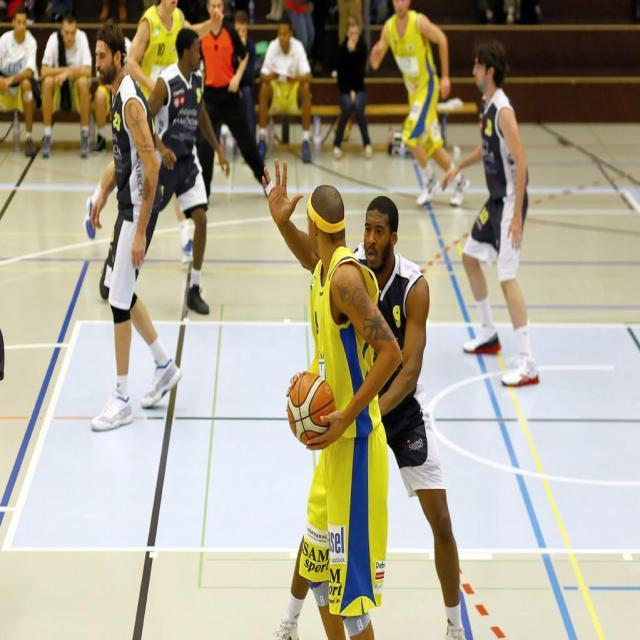rim: (288, 372, 334, 444)
